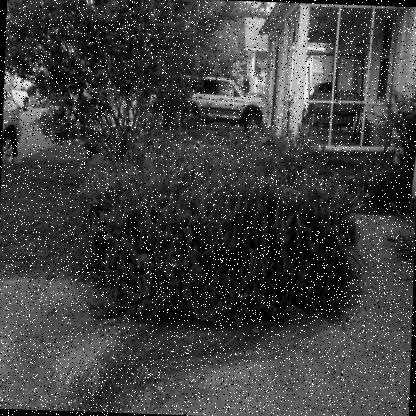Car: (182, 74, 264, 132), (2, 76, 24, 164), (6, 76, 32, 110), (66, 82, 94, 106)
